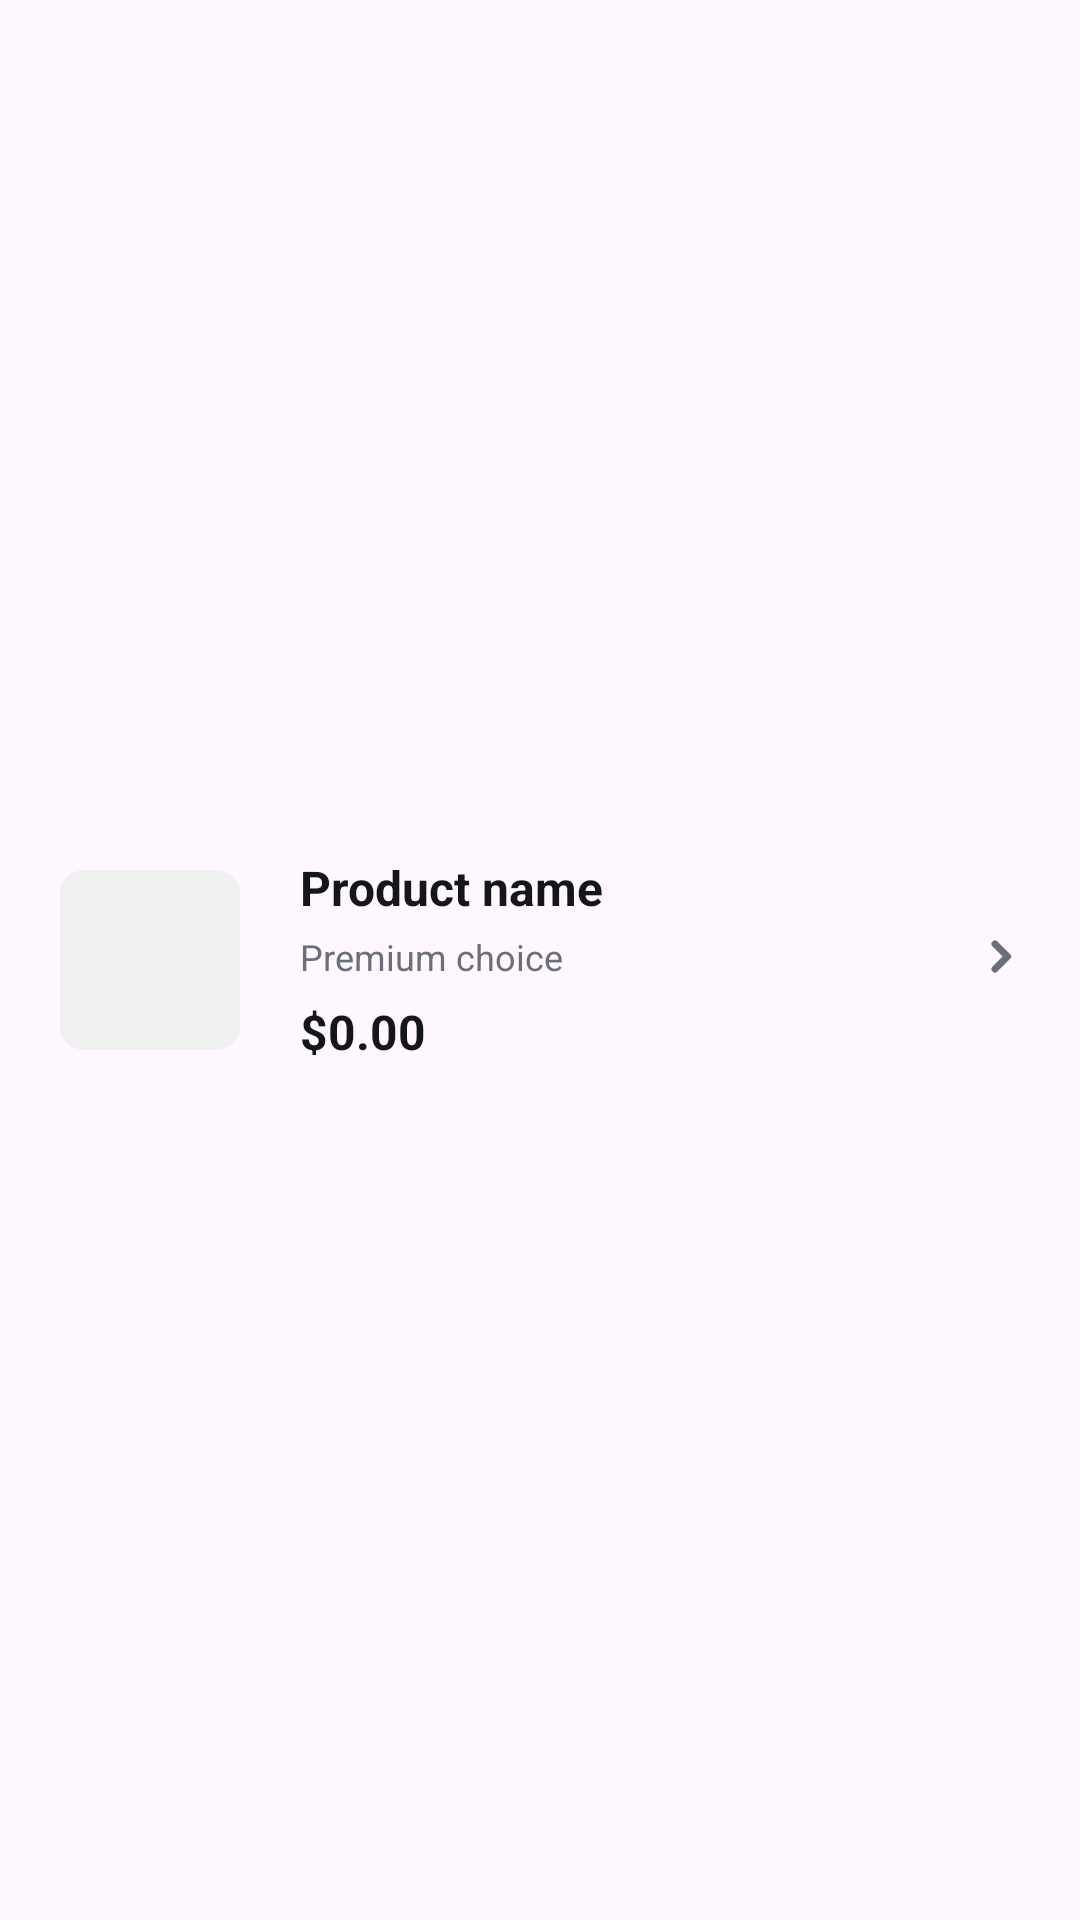

Locate icon controls on the screen. Image size 1080px x 1920px, boxes as (x1, y1, x2, y2).
chevron right: (991, 940, 1012, 973)
